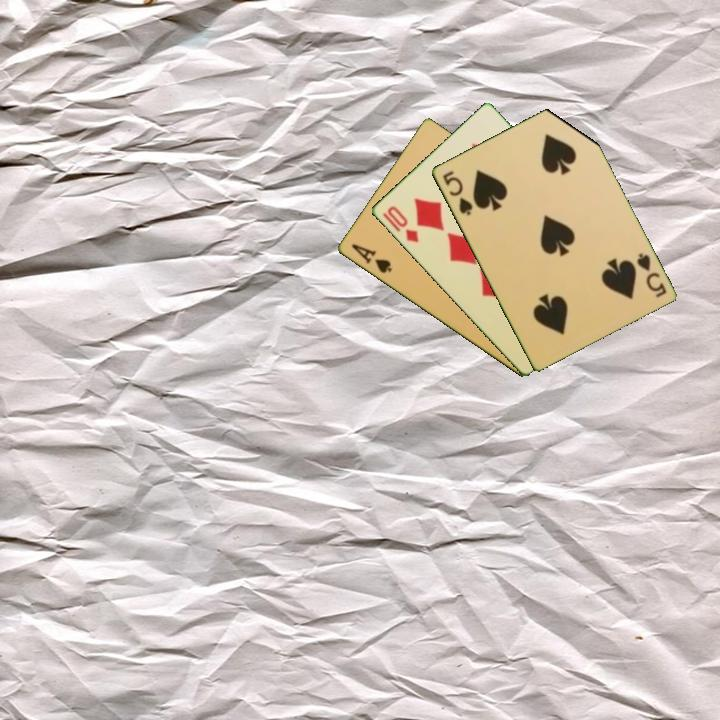10d: (383, 202, 421, 246)
5s: (632, 249, 669, 300), (439, 167, 475, 218)
As: (347, 240, 395, 276)
